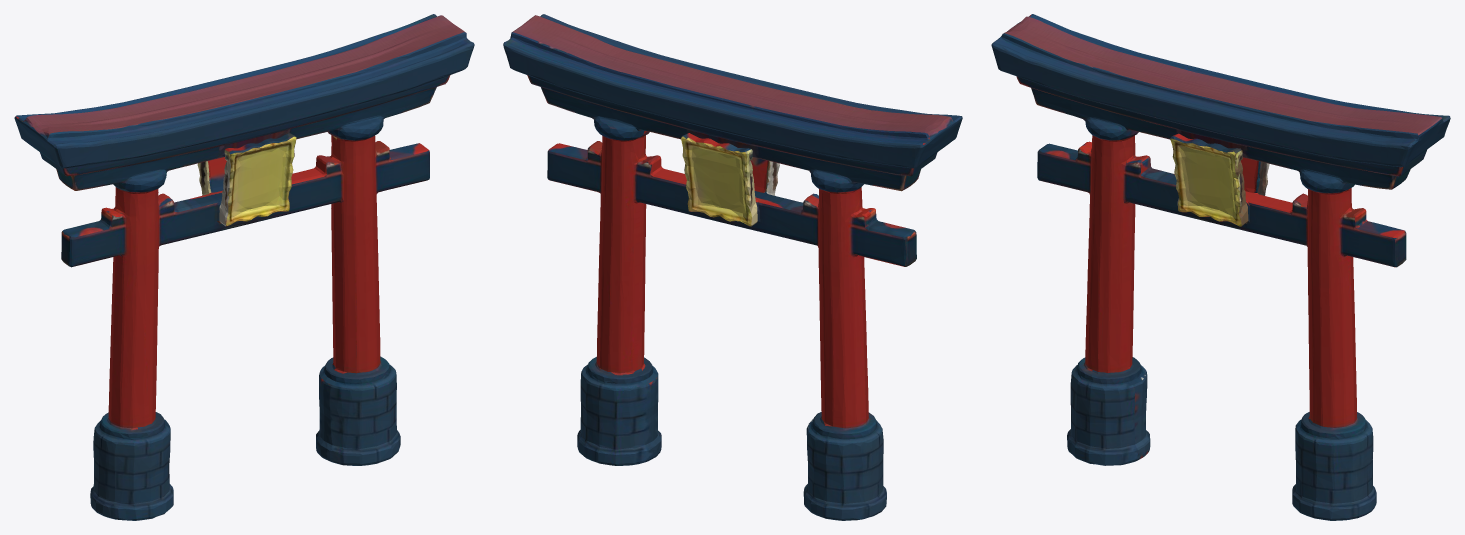
Rendered from torii.glb.
The picture shows the model from 3 angles, left to right: view 1: azimuth 30°, elevation 25°; view 2: azimuth 150°, elevation 25°; view 3: azimuth 330°, elevation 25°; orthographic projection.
Visible parts, largest first — view 1: tmpl70j47e2.ply; view 2: tmpl70j47e2.ply; view 3: tmpl70j47e2.ply.
Boxes of the visible parts, left/top/right/bottom form: tmpl70j47e2.ply: left=14, top=14, right=474, bottom=520; tmpl70j47e2.ply: left=503, top=14, right=962, bottom=520; tmpl70j47e2.ply: left=991, top=14, right=1450, bottom=520.
Bounding box in the file's own units: 1.99 × 1.83 × 0.3499.
1 material, 1 textured.
